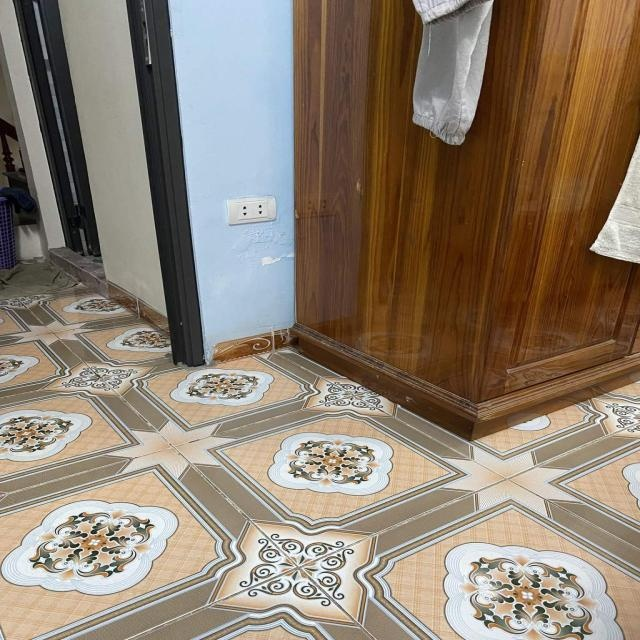outlet: (226, 195, 276, 225)
